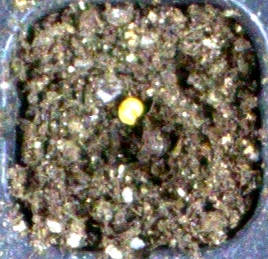pepper seed: (44, 33, 190, 160)
